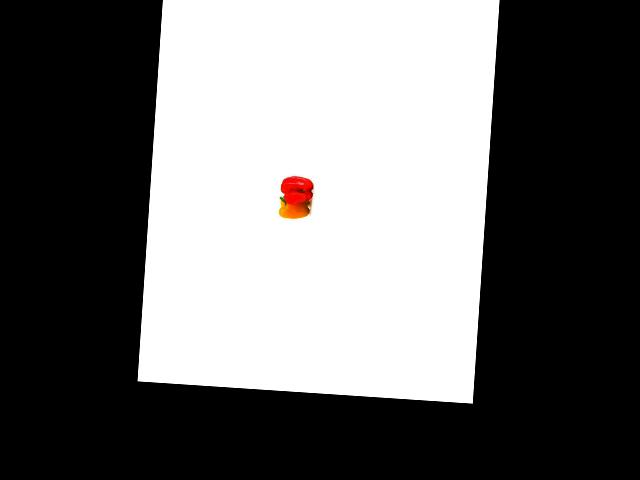bell_pepper: (279, 193, 312, 220)
